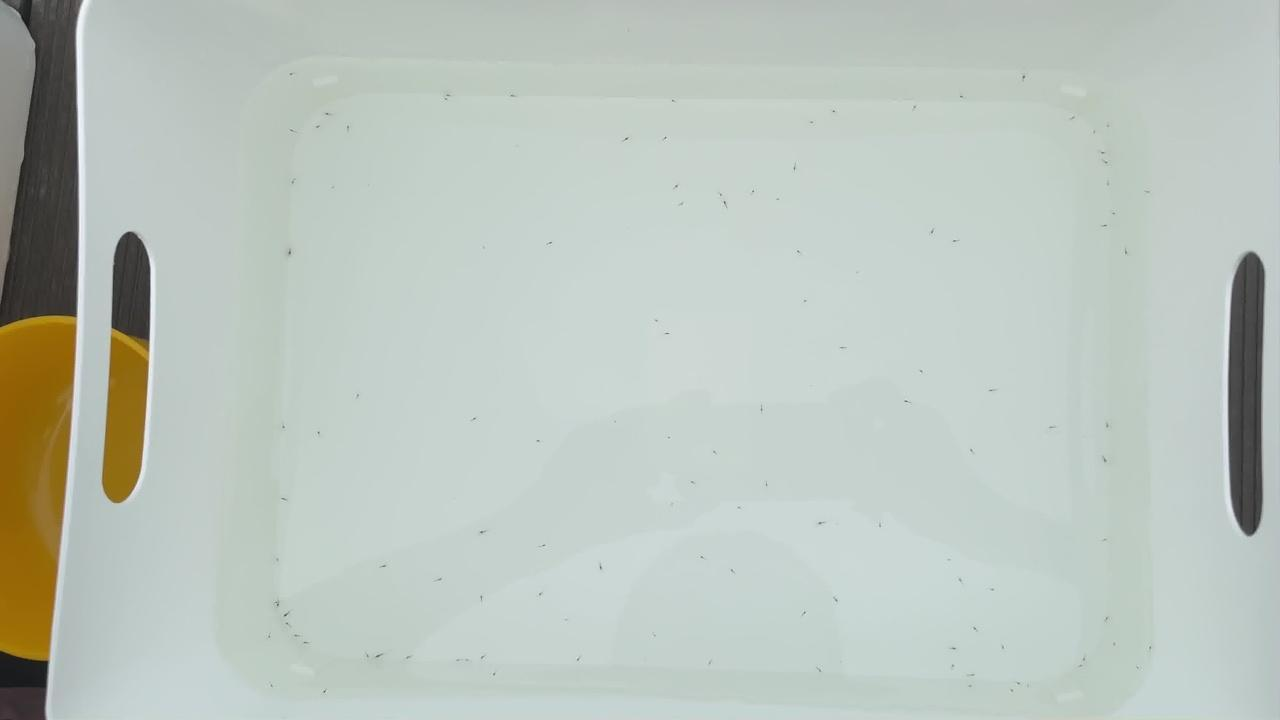shrimp: (285, 73, 297, 81), (287, 127, 299, 135), (288, 177, 300, 185), (284, 246, 296, 254), (315, 126, 327, 134), (322, 111, 334, 119), (344, 127, 356, 135), (440, 96, 452, 104), (444, 91, 456, 99), (505, 94, 517, 102), (544, 241, 556, 249), (481, 246, 493, 254), (622, 132, 634, 140), (676, 201, 688, 209), (670, 182, 682, 190), (660, 135, 672, 143), (668, 98, 680, 106), (721, 198, 733, 206), (717, 191, 729, 199), (748, 189, 760, 197), (774, 196, 786, 204), (790, 164, 802, 172), (805, 121, 817, 129), (829, 108, 841, 116), (908, 105, 920, 113), (958, 92, 970, 100), (1020, 75, 1032, 83), (1067, 113, 1079, 121), (1087, 130, 1099, 138), (1102, 121, 1114, 129), (1099, 146, 1111, 154), (1101, 157, 1113, 165), (1104, 180, 1116, 188), (1142, 189, 1154, 197), (1109, 210, 1121, 218), (1099, 222, 1111, 230), (1121, 250, 1133, 258), (950, 238, 962, 246), (928, 229, 940, 237), (794, 249, 806, 257), (652, 317, 664, 325), (663, 332, 675, 340), (800, 300, 812, 308), (839, 343, 851, 351), (758, 404, 770, 412), (902, 399, 914, 407), (917, 367, 929, 375), (987, 387, 999, 395), (965, 449, 977, 457), (1048, 424, 1060, 432), (1104, 423, 1116, 431), (1098, 457, 1110, 465), (1101, 536, 1113, 544), (1102, 616, 1114, 624), (1109, 642, 1121, 650), (1145, 646, 1157, 654), (1134, 664, 1146, 672), (1079, 656, 1091, 664), (1076, 665, 1088, 673), (1024, 683, 1036, 691), (1015, 680, 1027, 688), (1006, 687, 1018, 695), (964, 685, 976, 693), (967, 673, 979, 681), (1000, 645, 1012, 653), (970, 625, 982, 633), (948, 645, 960, 653), (947, 664, 959, 672), (988, 588, 1000, 596), (956, 578, 968, 586), (943, 556, 955, 564), (874, 521, 886, 529), (815, 519, 827, 527), (761, 480, 773, 488), (708, 448, 720, 456), (663, 434, 675, 442), (686, 478, 698, 486), (733, 503, 745, 511), (832, 594, 844, 602), (800, 609, 812, 617), (815, 667, 827, 675), (819, 695, 831, 703), (706, 662, 718, 670), (649, 632, 661, 640), (572, 658, 584, 666), (727, 569, 739, 577), (696, 552, 708, 560), (596, 564, 608, 572), (535, 590, 547, 598), (561, 617, 573, 625), (538, 542, 550, 550), (478, 530, 490, 538), (535, 438, 547, 446), (468, 416, 480, 424), (476, 596, 488, 604), (488, 673, 500, 681), (477, 655, 489, 663), (464, 658, 476, 666), (452, 657, 464, 665), (403, 656, 415, 664), (374, 653, 386, 661), (363, 652, 375, 660), (321, 689, 333, 697), (434, 578, 446, 586), (380, 564, 392, 572), (300, 642, 312, 650), (292, 634, 304, 642), (268, 684, 280, 692), (265, 634, 277, 642), (282, 622, 294, 630), (283, 612, 295, 620), (272, 602, 284, 610), (273, 558, 285, 566), (281, 495, 293, 503), (279, 427, 291, 435), (315, 431, 327, 439), (351, 391, 363, 399)
